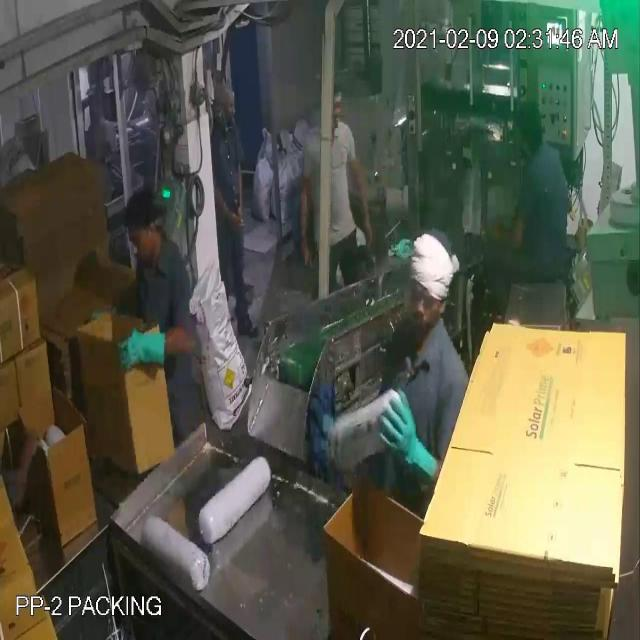Gloves: (23, 48, 506, 470)
